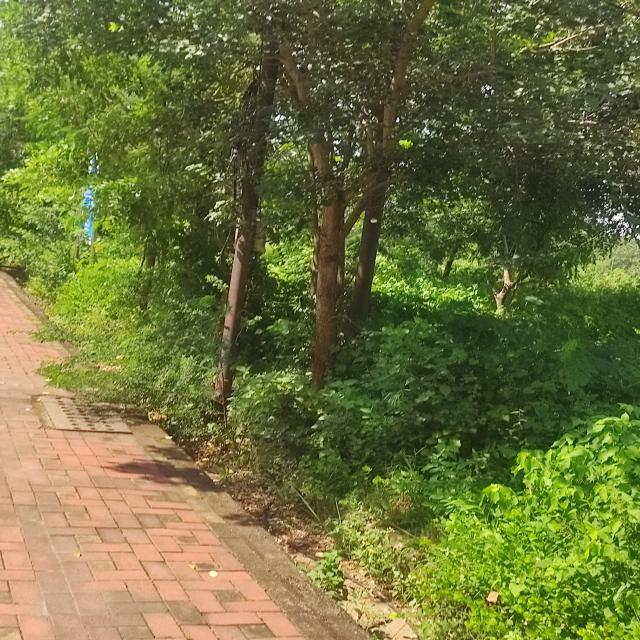Devakanchan tree: (125, 1, 570, 191)
Neem Tree: (1, 9, 221, 195)
